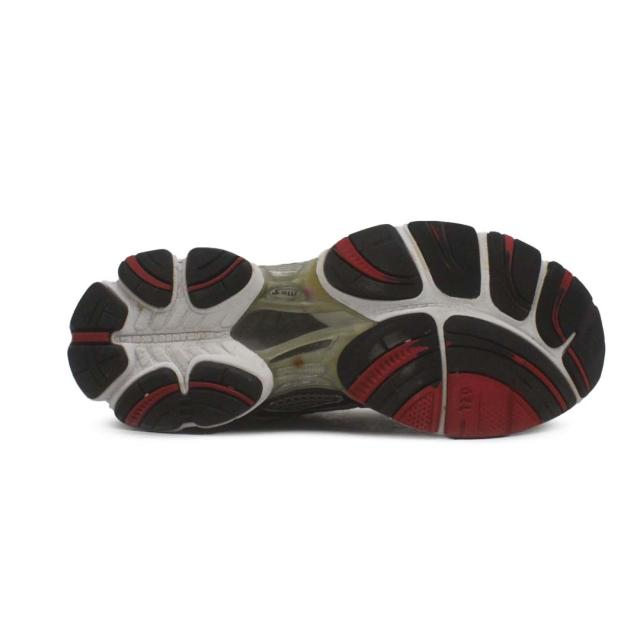outersole: (65, 219, 607, 443)
